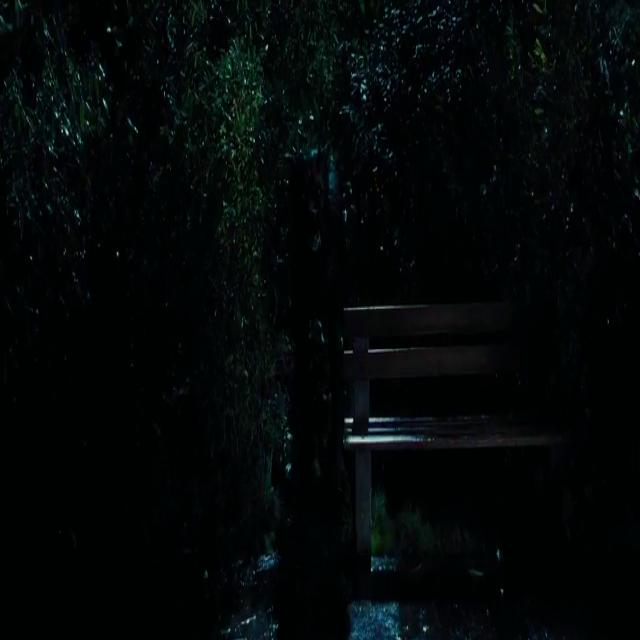Dog: (260, 102, 401, 625)
